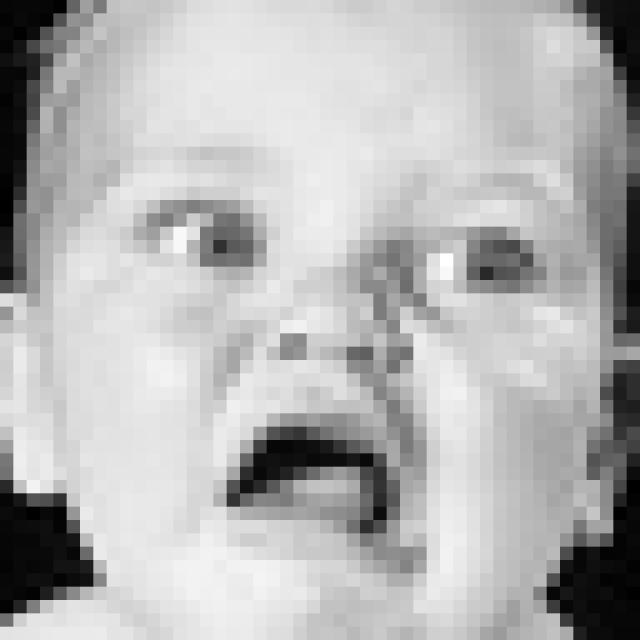disgust: (96, 135, 569, 560)
